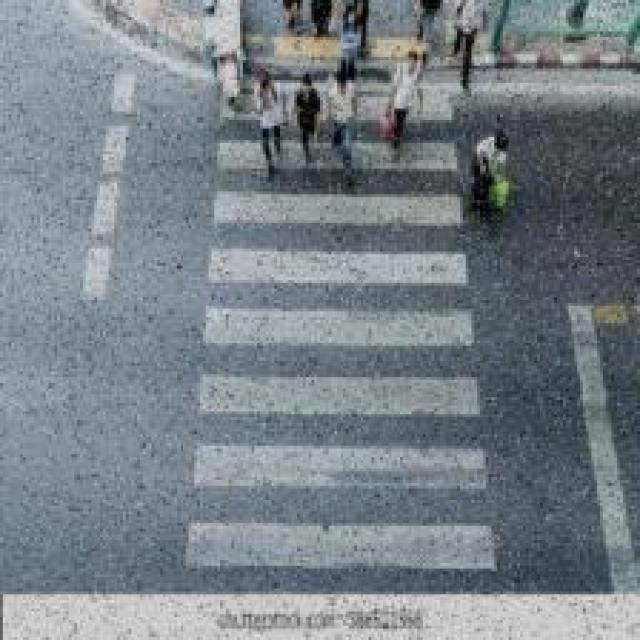crosswalk: (184, 79, 498, 570)
